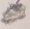microplastic: (1, 1, 26, 25)
